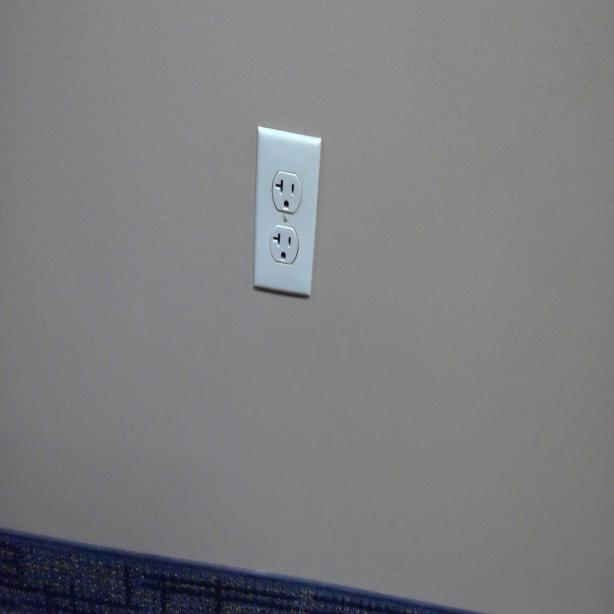typeb: (271, 172, 299, 212), (270, 225, 298, 264)
